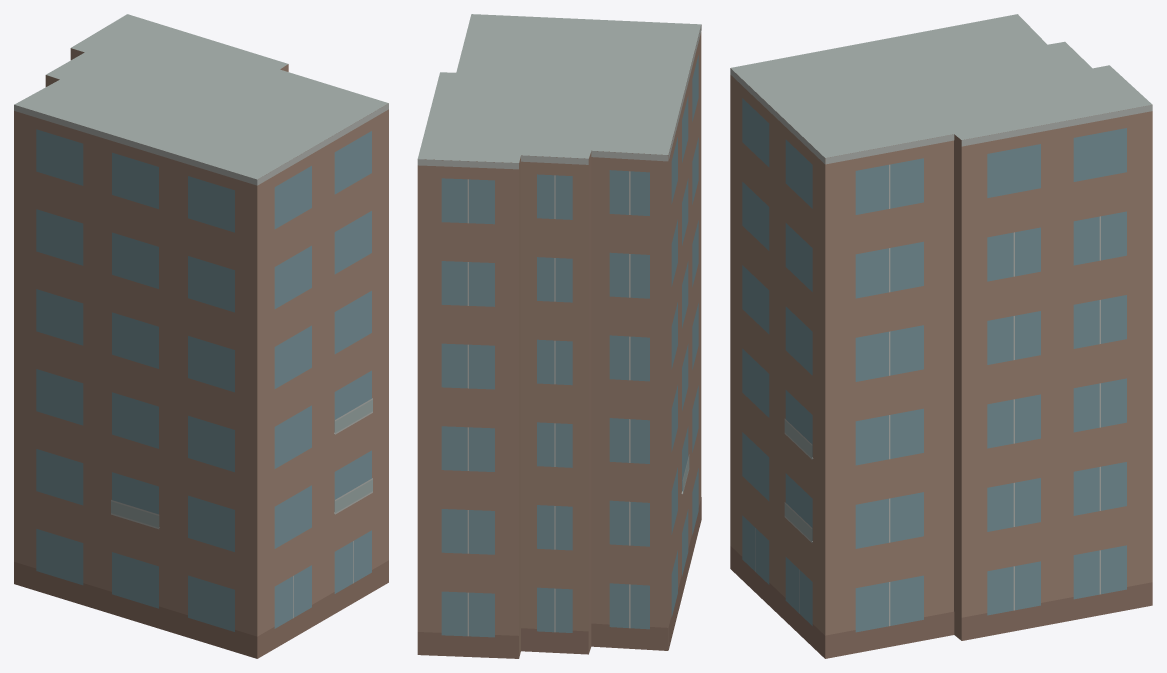
File: survey-upis-32700312.glb
3 views of the same model, side by side, from view 1: azimuth 30°, elevation 25°; view 2: azimuth 150°, elevation 25°; view 3: azimuth 270°, elevation 25° (orthographic). The views are drawn at different scales.
Parts seen in each view (by area): view 1: survey-upis-32700312.tmp; view 2: survey-upis-32700312.tmp; view 3: survey-upis-32700312.tmp.
Part boxes in pixels (x1,y1,x2,y2): survey-upis-32700312.tmp: (14,14,388,658); survey-upis-32700312.tmp: (417,14,701,658); survey-upis-32700312.tmp: (730,14,1152,658).
Size of the model in its own units: 11.79 by 19.1 by 14.61.
